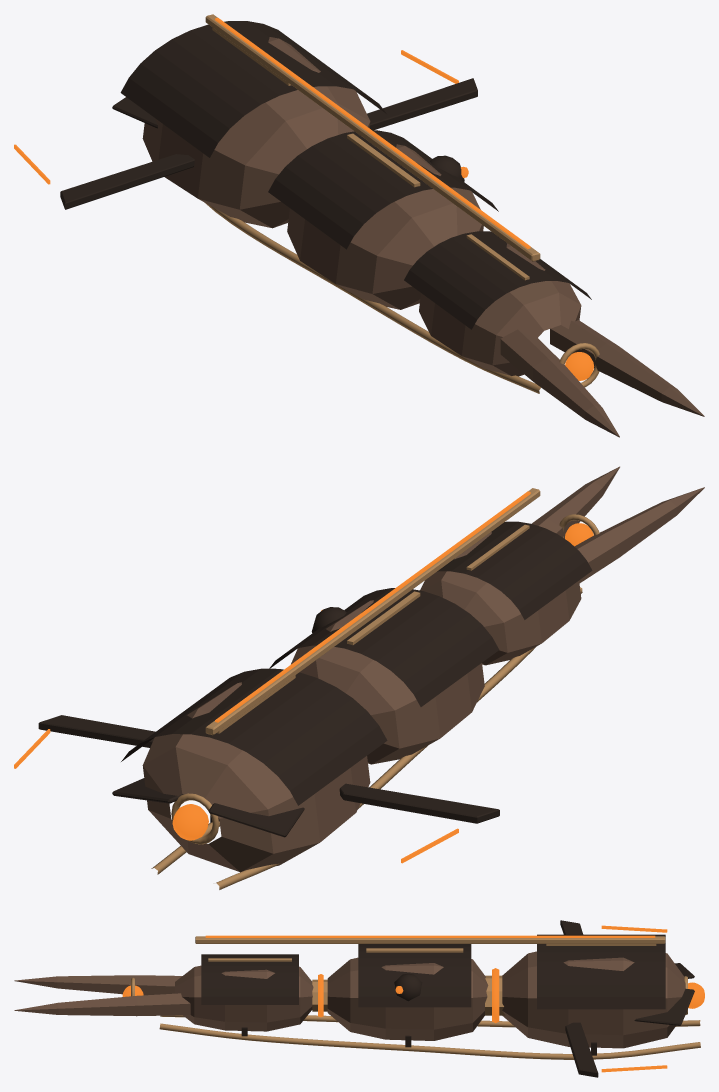
The model's file is narm.glb.
The picture shows the model from 3 angles, top to bottom: view 1: azimuth 30°, elevation 25°; view 2: azimuth 150°, elevation 25°; view 3: azimuth 270°, elevation 25°; orthographic projection. The views are drawn at different scales.
Parts seen in each view (by area): view 1: hull, hull2, trim, team_glow; view 2: hull2, hull, trim, team_glow; view 3: hull, hull2, trim, team_glow.
Boxes of the visible parts, x1,y1,x2,y2 form: hull: (142,37,704,437); hull2: (60,21,591,329); trim: (204,14,599,393); team_glow: (14,17,594,380); hull2: (38,521,592,837); hull: (142,466,704,872); trim: (151,488,599,889); team_glow: (14,491,593,863); hull: (14,951,685,1048); hull2: (201,920,694,1077); trim: (131,936,700,1059); team_glow: (122,925,704,1072).
Bounding box in the file's own units: 4.92 × 1.64 × 9.41.
